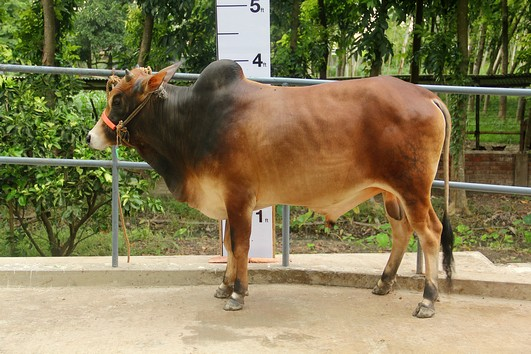cow: (83, 55, 460, 326)
